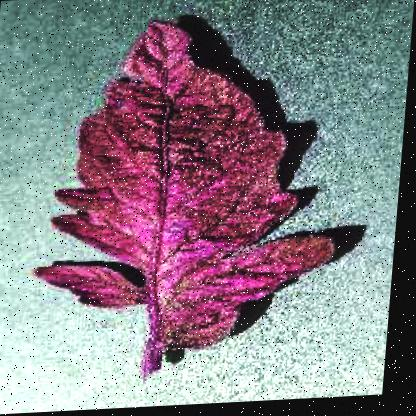Virus: (29, 6, 379, 394)
